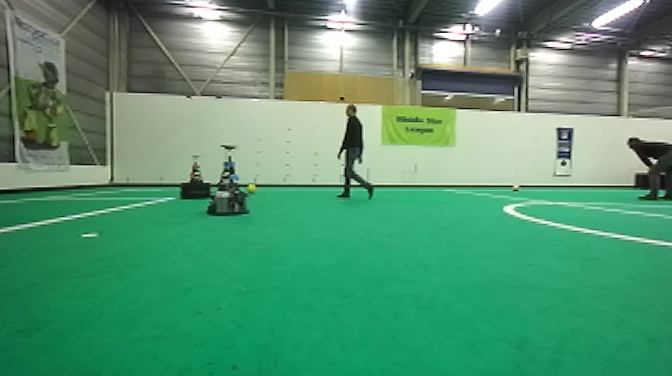ball: (244, 181, 258, 194), (509, 181, 521, 194)
human: (335, 102, 375, 200), (624, 134, 672, 202)
robot: (203, 143, 250, 217), (177, 153, 215, 201)
